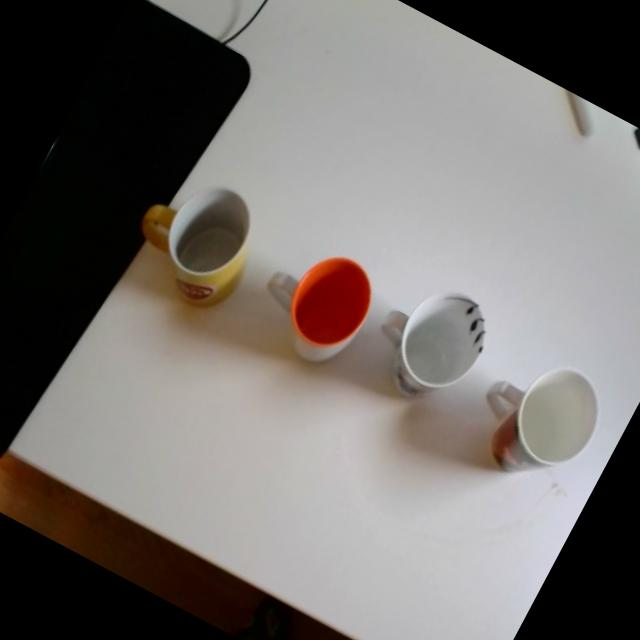Cocio Cup: (112, 156, 278, 327)
Halloween cup: (450, 332, 617, 501)
Hand painted cup: (350, 260, 504, 424)
White Cup: (242, 226, 388, 376)
